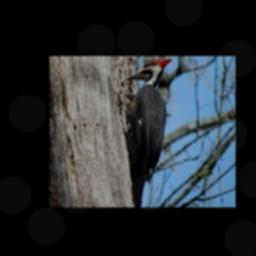Woodpecker: (123, 59, 172, 183)
